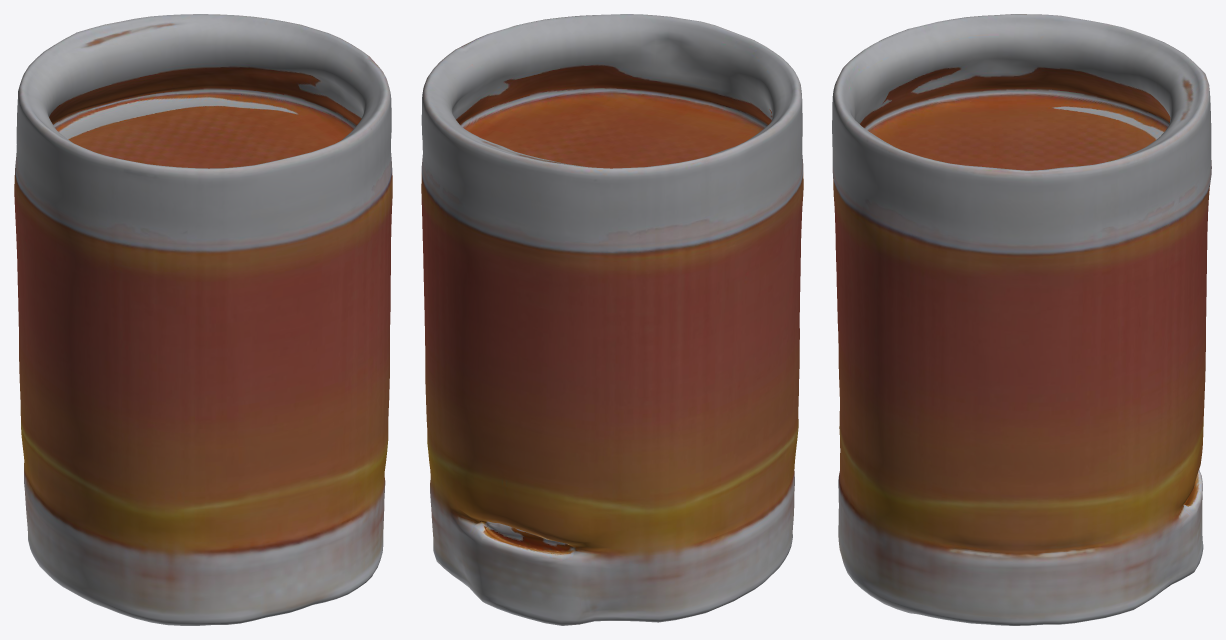
Rendered from WhiskeyCup.fbx.
3 views of the same model, side by side, from view 1: azimuth 30°, elevation 25°; view 2: azimuth 150°, elevation 25°; view 3: azimuth 270°, elevation 25° (orthographic).
Parts seen in each view (by area): view 1: mesh; view 2: mesh; view 3: mesh.
Boxes of the visible parts, x1,y1,x2,y2 form: mesh: (14,14,392,625); mesh: (421,14,803,625); mesh: (832,14,1211,625).
Bounding box in the file's own units: 72.44 × 99.81 × 72.64.
